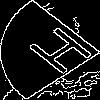H: (25, 25, 100, 84)
